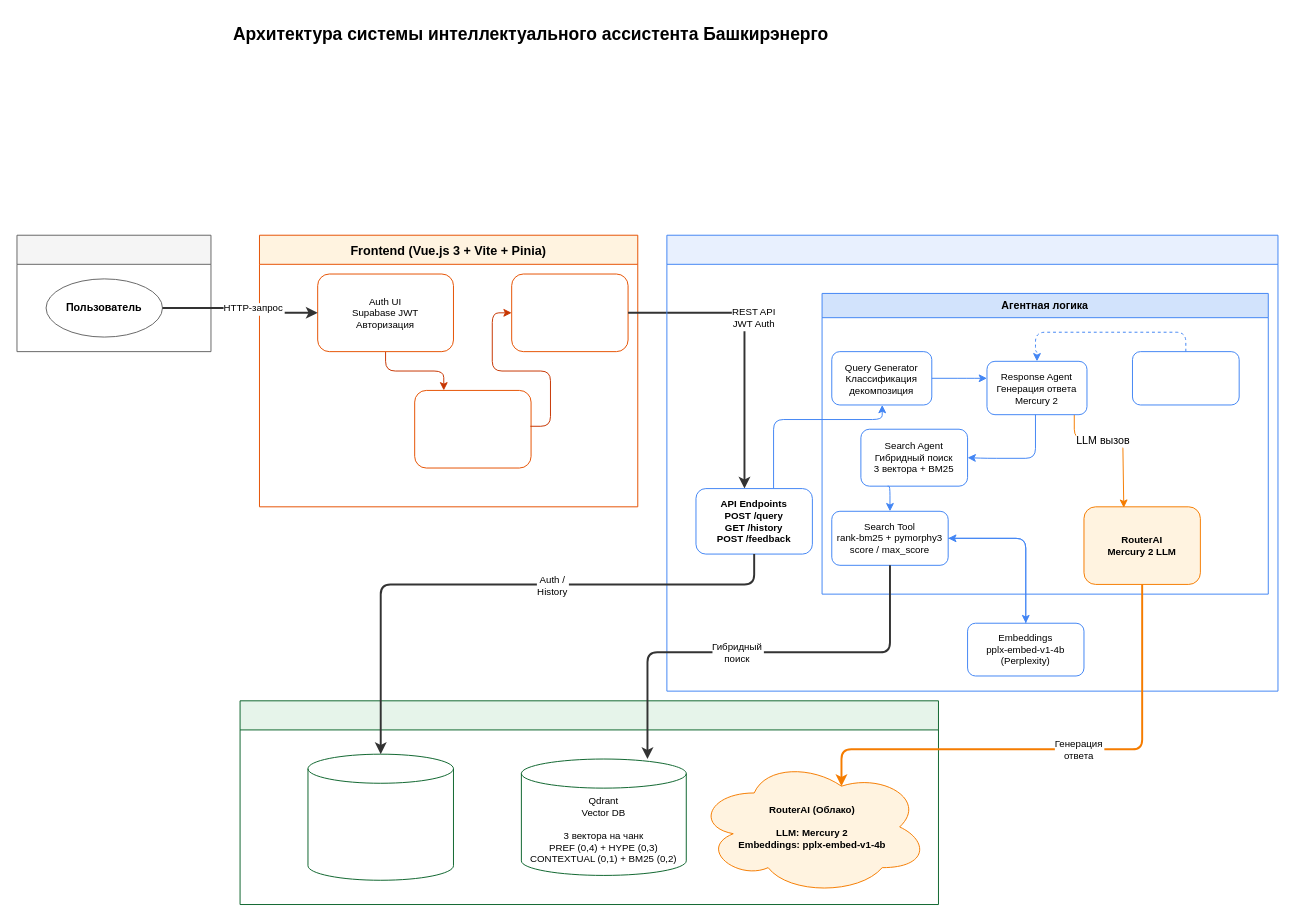
This 1295x922 diagram has some shape labels left out. Each missing label, with the box of its shape:
Backend (FastAPI + Uvicorn): (666, 234, 1278, 691)
Nginx (Reverse Proxy): (511, 273, 628, 352)
Supabase PostgreSQL Auth (JWT) Chat history Feedback: (307, 753, 453, 880)
System Prompts backend/prompts/: (1132, 351, 1239, 405)
Vue.js SPA Чат-интерфейс История / Профиль: (414, 389, 531, 468)
Клиентский слой: (16, 234, 211, 352)
Слой данных: (239, 700, 938, 905)
